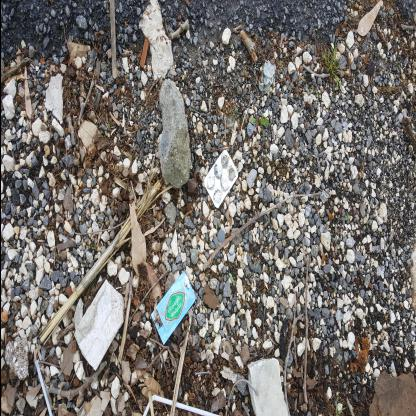kagit: (271, 221, 344, 266)
plastik: (150, 179, 207, 213)
